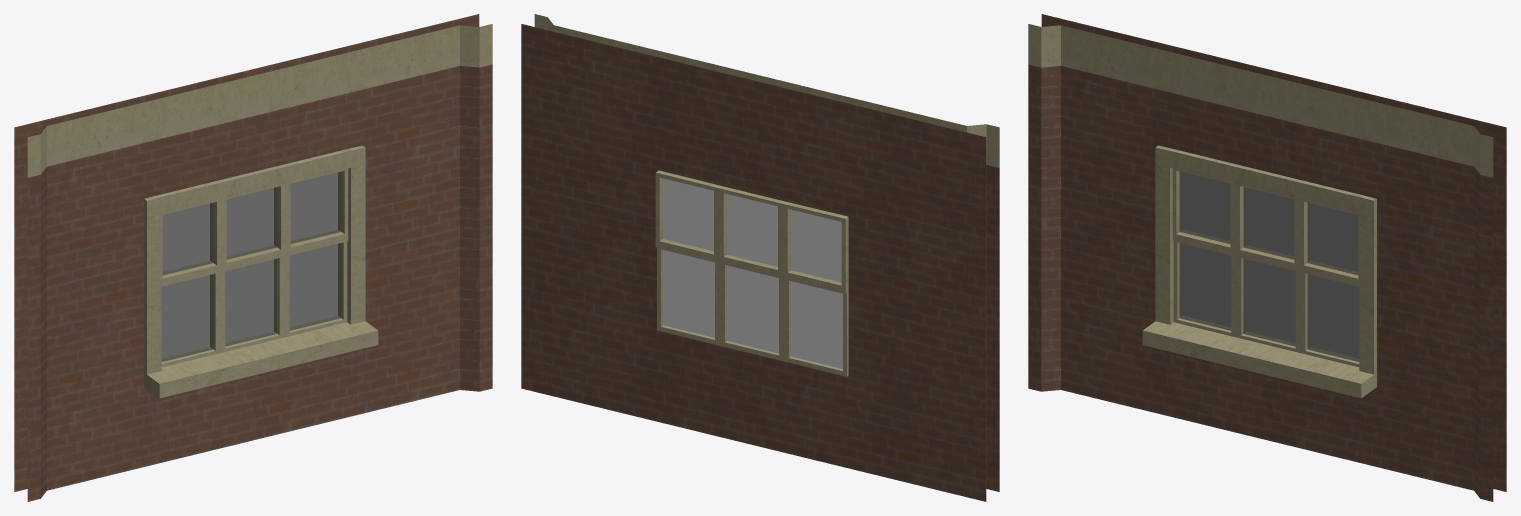
The model's file is Brick_Inset_Window.gltf.
3 renders of one model, left to right at view 1: azimuth 30°, elevation 25°; view 2: azimuth 150°, elevation 25°; view 3: azimuth 330°, elevation 25°, orthographic.
Parts seen in each view (by area): view 1: Brick_Inset_Window; view 2: Brick_Inset_Window; view 3: Brick_Inset_Window.
Part boxes in pixels (box(x1,y1,x2,y2)): Brick_Inset_Window: box(14, 14, 492, 501); Brick_Inset_Window: box(521, 14, 999, 501); Brick_Inset_Window: box(1028, 14, 1506, 501).
Size of the model in its own units: 4 by 3 by 0.3743.
Materials: 5 (3 with a texture image).
